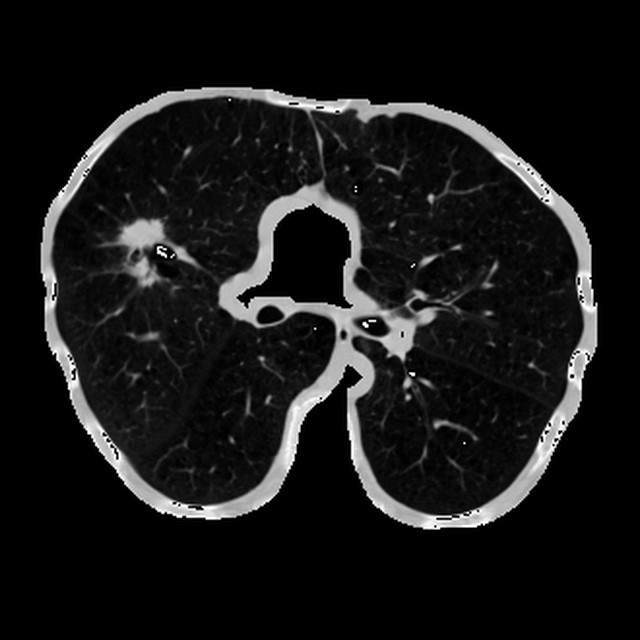PN: (118, 225, 165, 272)
